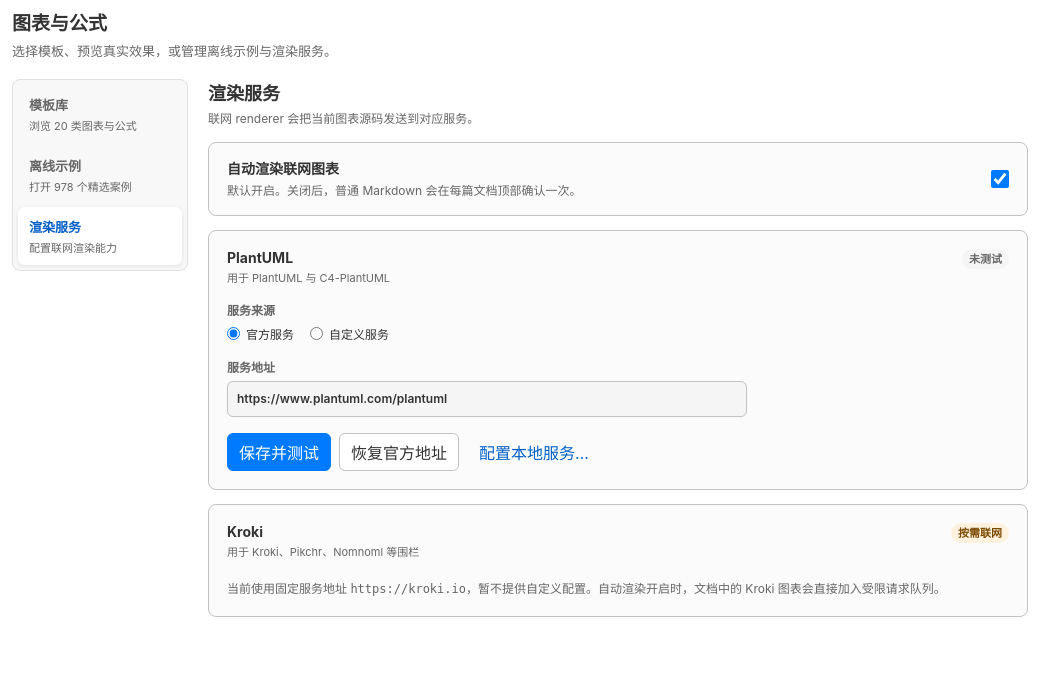
Test: ChartsSettingsTab › rejects non-HTTP PlantUML service addresses without fetching or persisting them
Click the radio button labelled "自定义服务" at (316, 333), box [310,326,323,340]
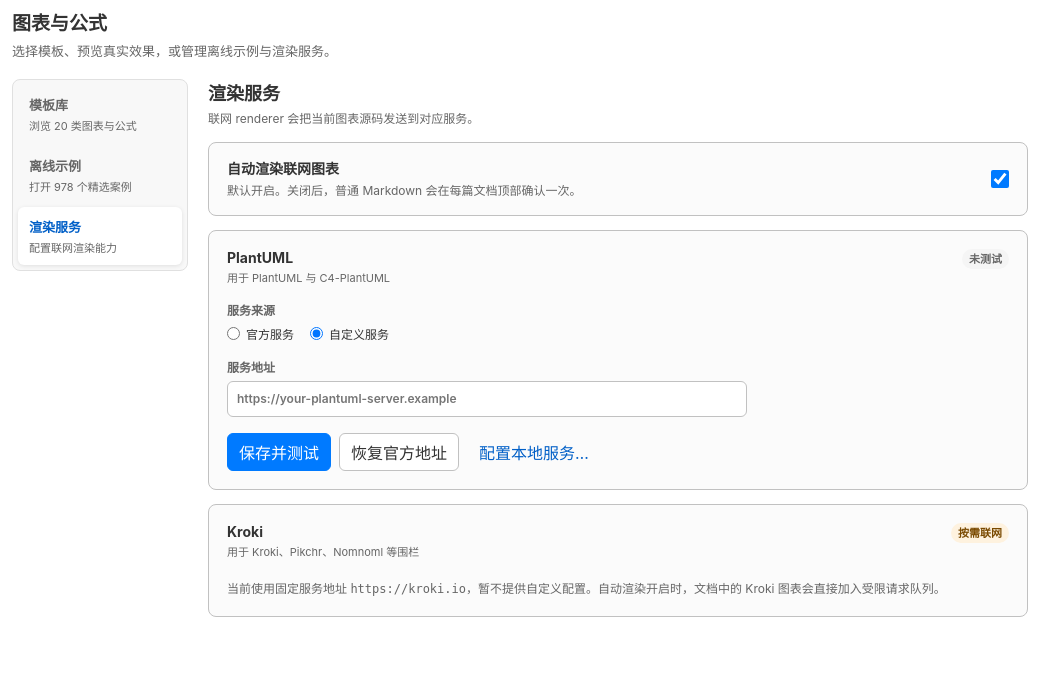
Type "file:///tmp/plantuml" into the field labelled "服务地址" at (487, 398), box [227,380,747,416]
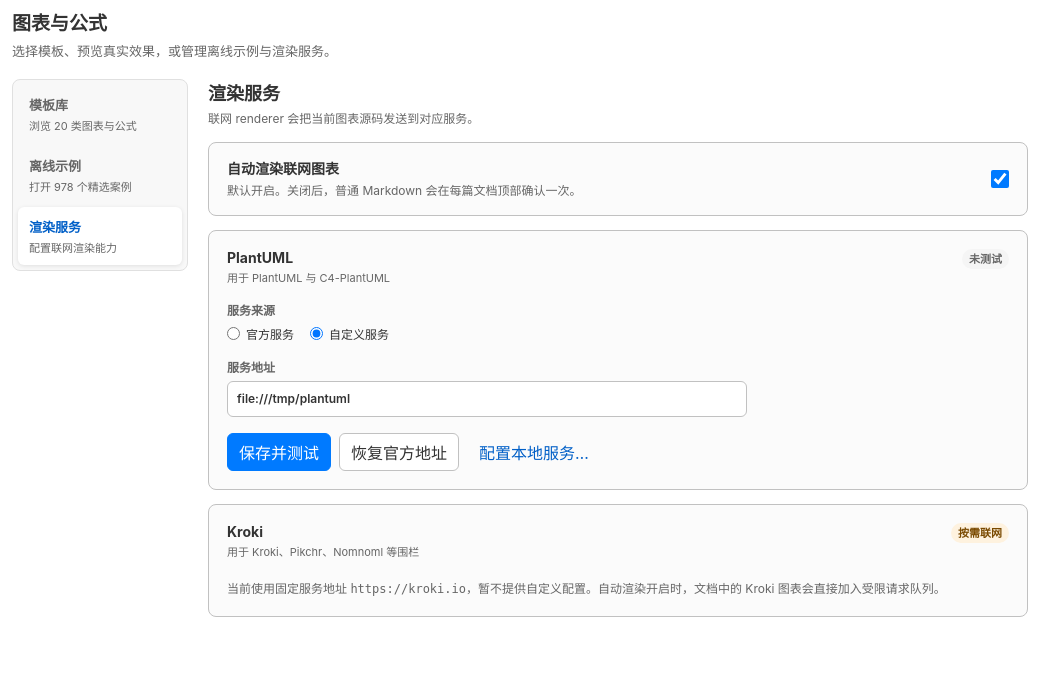
Click the button "保存并测试" at (279, 452), box [227,432,331,470]
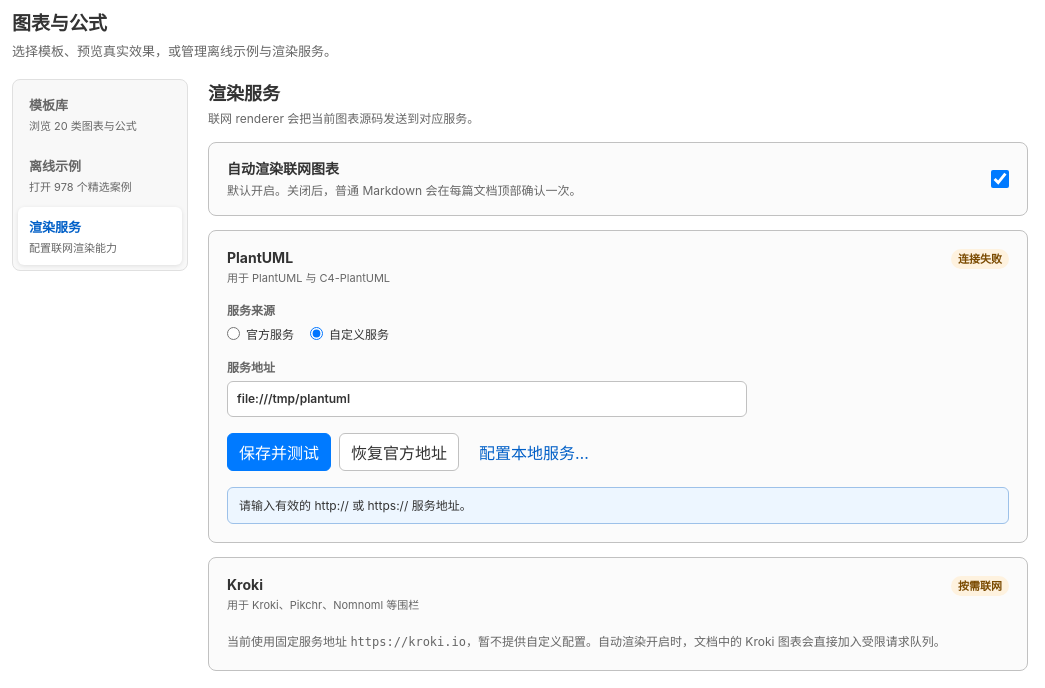
Expected: the text "请输入有效的 http:// 或 https:// 服务地址。" is shown, [227,486,1009,524]
